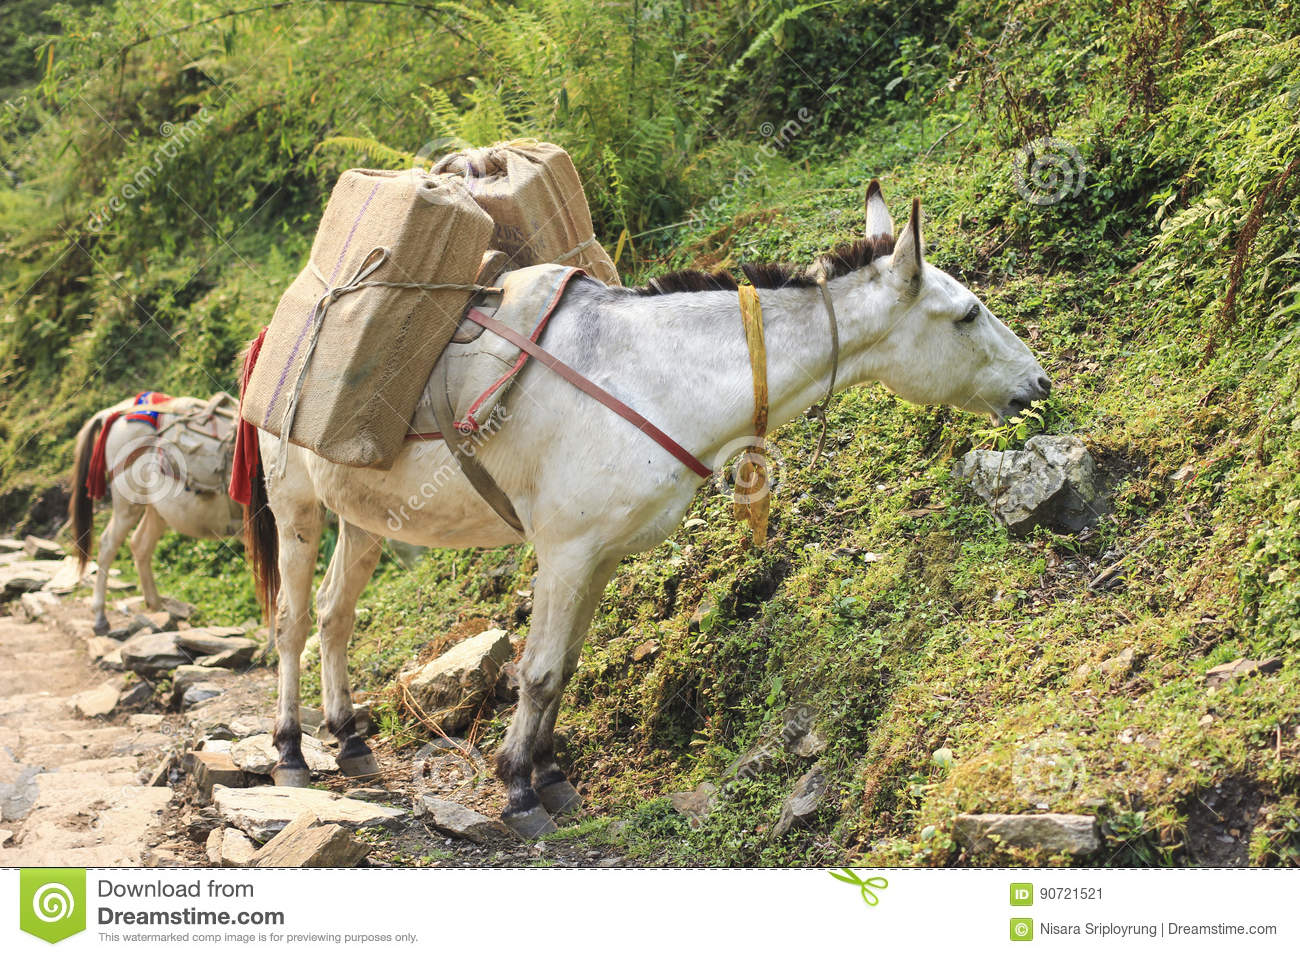equine: (221, 179, 1093, 854), (62, 387, 326, 659)
